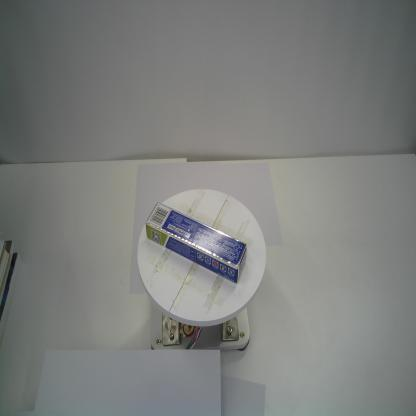Personal Hygiene: (145, 200, 248, 284)
